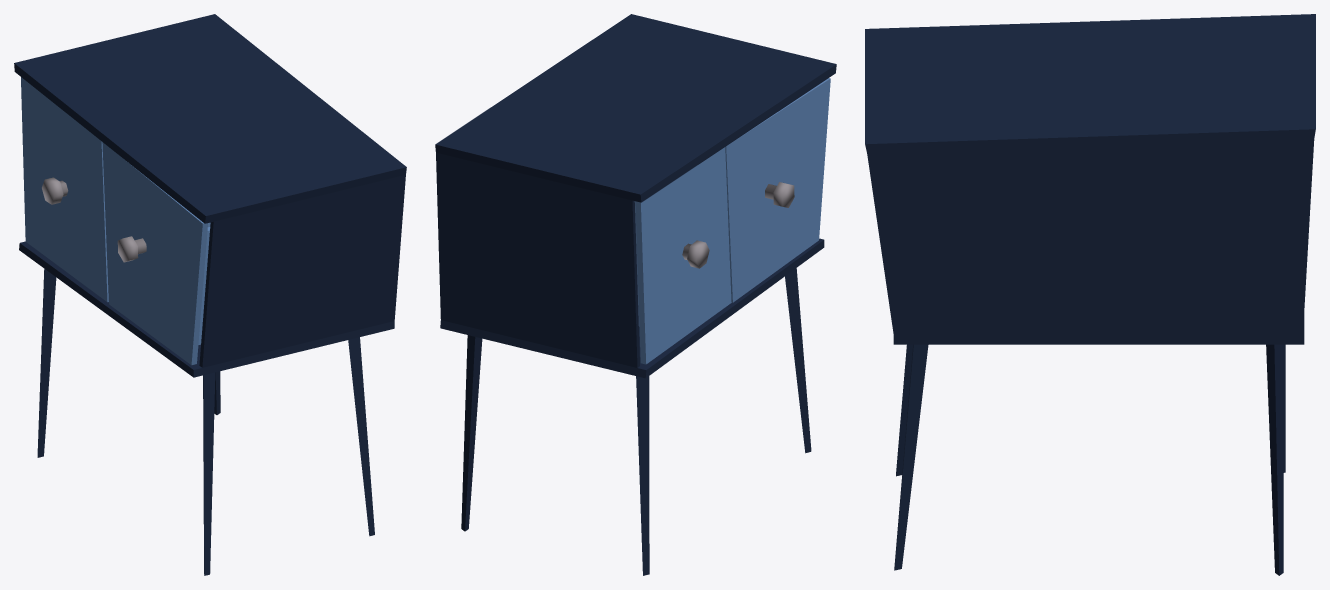
The model's file is pedestal hallway room .fbx.
The picture shows the model from 3 angles, left to right: view 1: azimuth 30°, elevation 25°; view 2: azimuth 150°, elevation 25°; view 3: azimuth 270°, elevation 25°; orthographic projection. The views are drawn at different scales.
Visible parts, largest first — view 1: pedestal hallway room, pedestal hallway room door 2, pedestal hallway room door 1; view 2: pedestal hallway room, pedestal hallway room door 2, pedestal hallway room door 1; view 3: pedestal hallway room.
Part boxes in pixels (<box>): pedestal hallway room: <box>14,14,406,575</box>; pedestal hallway room door 2: <box>102,142,210,365</box>; pedestal hallway room door 1: <box>21,77,108,302</box>; pedestal hallway room: <box>435,14,836,575</box>; pedestal hallway room door 2: <box>725,78,830,302</box>; pedestal hallway room door 1: <box>634,147,731,364</box>; pedestal hallway room: <box>865,14,1315,575</box>.
Bounding box in the file's own units: 0.7092 × 1.19 × 1.08.
